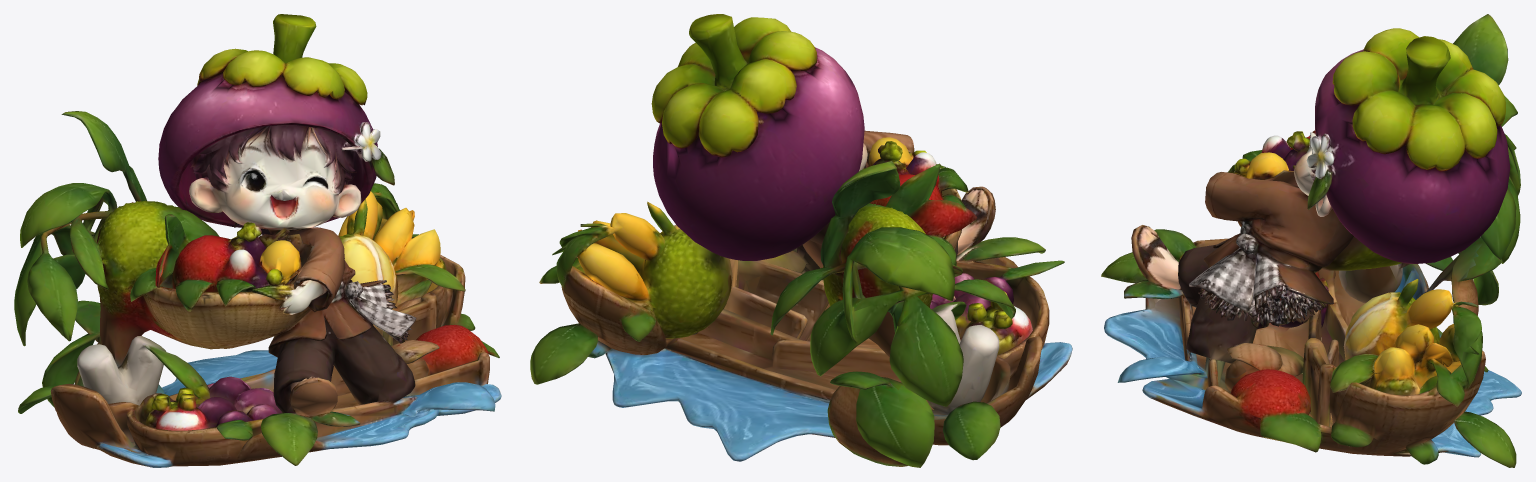
The model's file is mtcFes.glb.
The picture shows the model from 3 angles, left to right: view 1: azimuth 30°, elevation 25°; view 2: azimuth 150°, elevation 25°; view 3: azimuth 270°, elevation 25°; orthographic projection. The views are drawn at different scales.
Visible parts, largest first — view 1: node_0; view 2: node_0; view 3: node_0.
Boxes of the visible parts, box(x1,y1,x2,y2) form: node_0: box(14, 14, 501, 467); node_0: box(530, 14, 1072, 467); node_0: box(1101, 14, 1521, 467).
Bounding box in the file's own units: 0.8609 × 0.7205 × 0.7138.
Materials: 1 (1 with a texture image).
